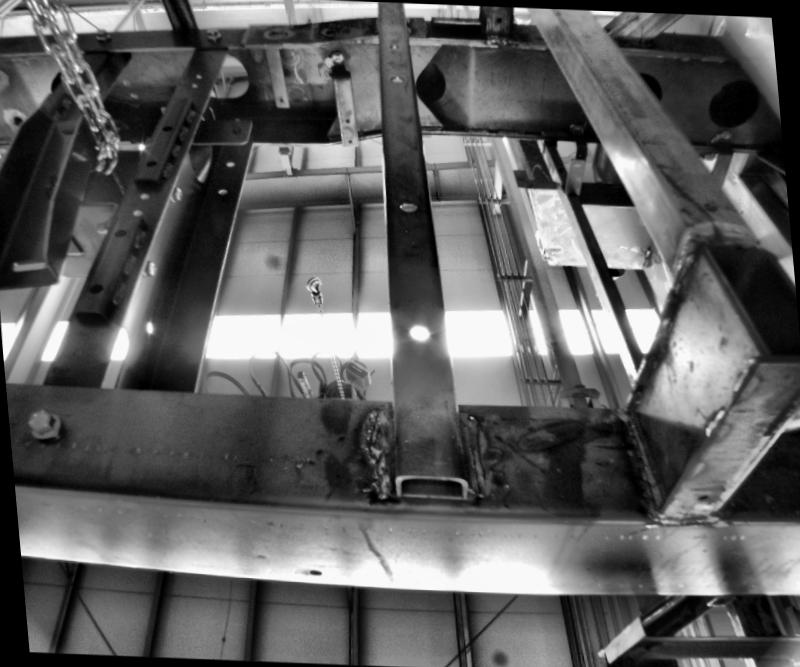bolt: (17, 402, 56, 434), (165, 182, 186, 203), (133, 252, 153, 272), (200, 23, 224, 38), (90, 26, 110, 42)
bracket: (324, 49, 356, 152), (196, 104, 253, 139), (554, 146, 594, 193), (264, 38, 292, 105)
hole: (400, 309, 431, 339), (395, 195, 420, 212), (702, 190, 721, 202), (136, 312, 150, 327), (697, 487, 710, 499), (388, 72, 403, 79), (224, 120, 237, 128), (138, 190, 149, 198), (130, 206, 142, 213), (188, 78, 198, 86), (214, 184, 224, 191), (306, 568, 320, 573), (224, 159, 234, 165), (570, 159, 580, 165), (342, 116, 350, 123), (493, 12, 501, 19), (386, 39, 396, 44), (344, 136, 352, 141), (276, 94, 282, 100), (194, 70, 200, 76)
welding: (453, 401, 497, 491), (362, 397, 386, 500)
